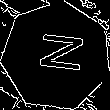N_W: (29, 33, 84, 79)
